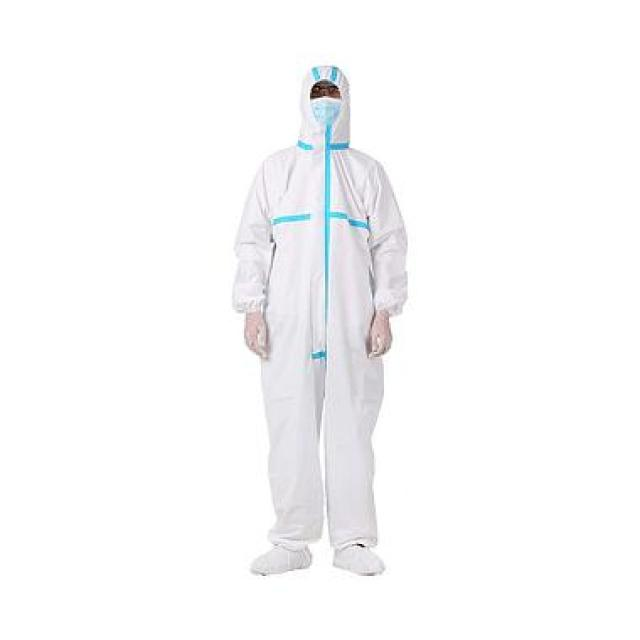Coverall: (216, 39, 440, 621)
Goggles: (290, 67, 350, 96)
Mask: (291, 94, 359, 138)
